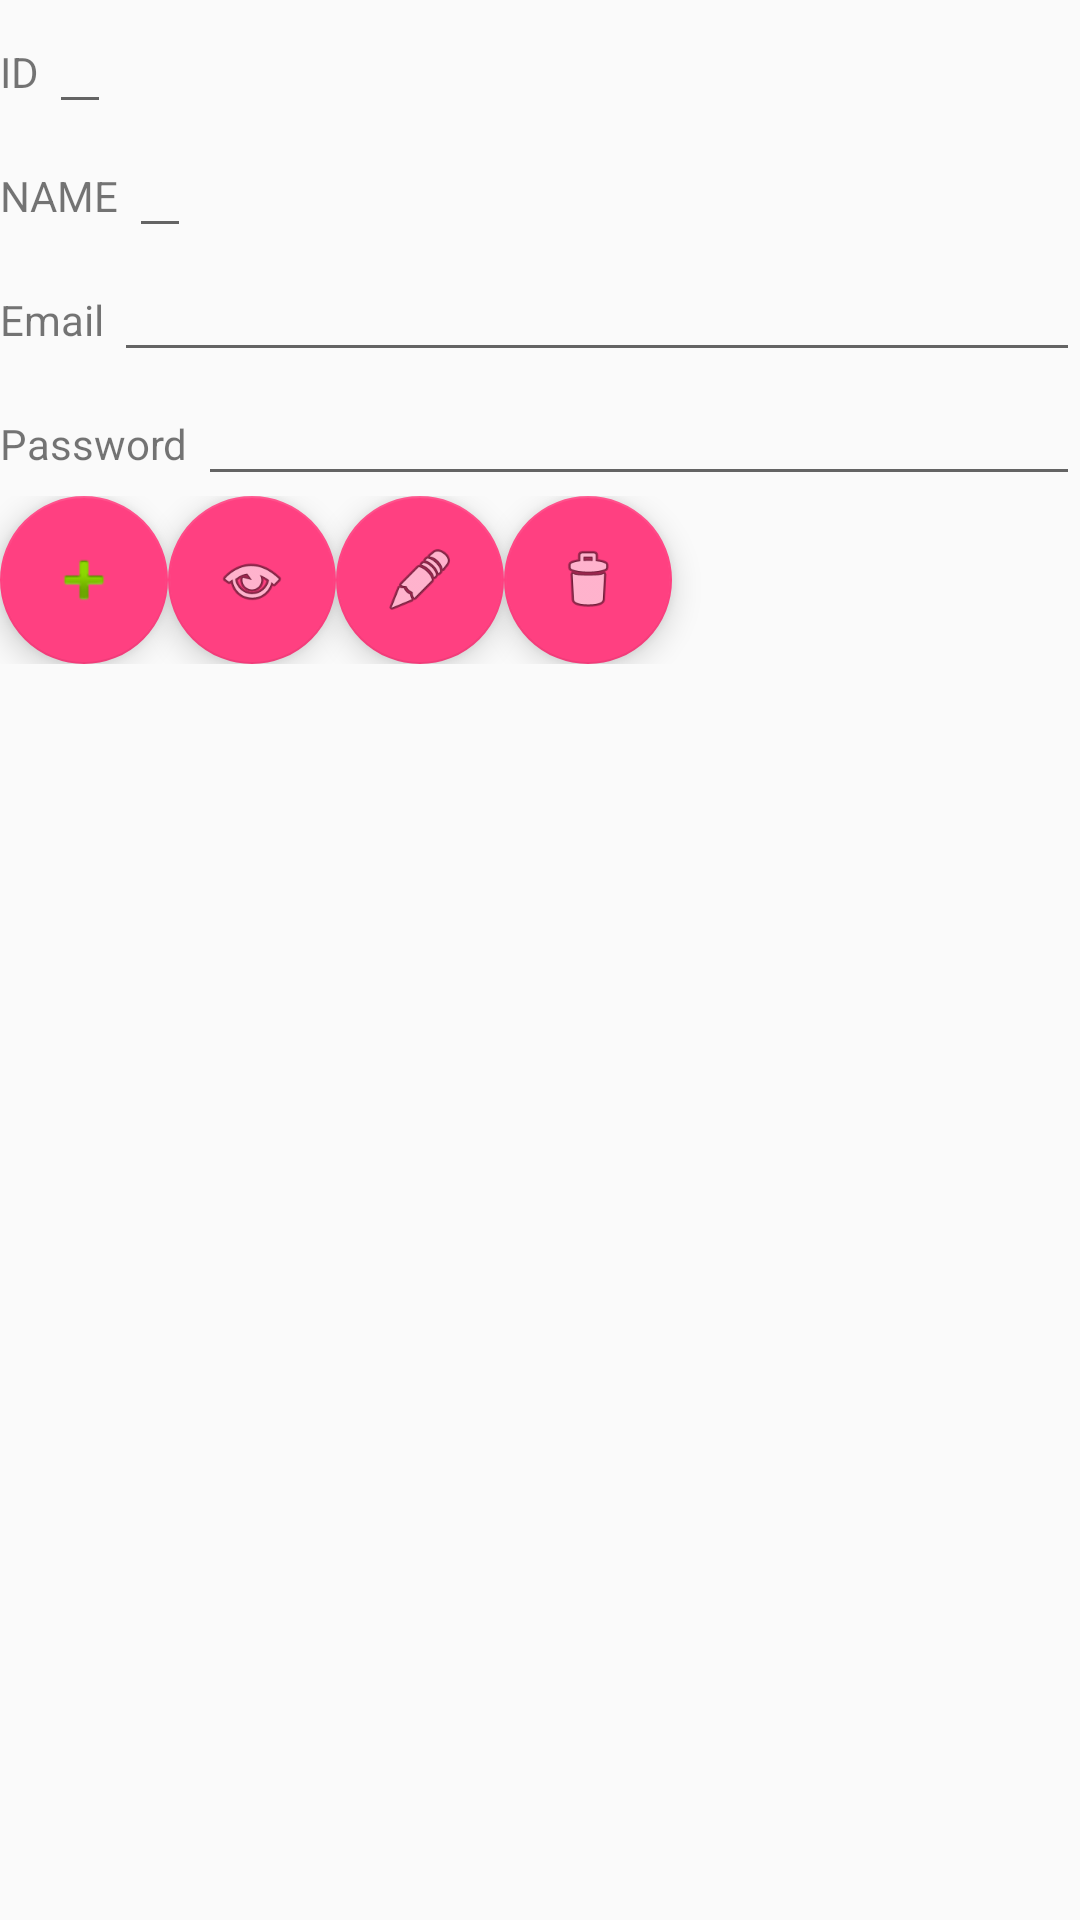

Icons on this 1080×1920 Android screen, each with its box as (x1, y1, x2, y2):
add: (0, 496, 168, 664)
delete: (504, 496, 672, 664)
edit: (336, 496, 504, 664)
view: (168, 496, 336, 664)
